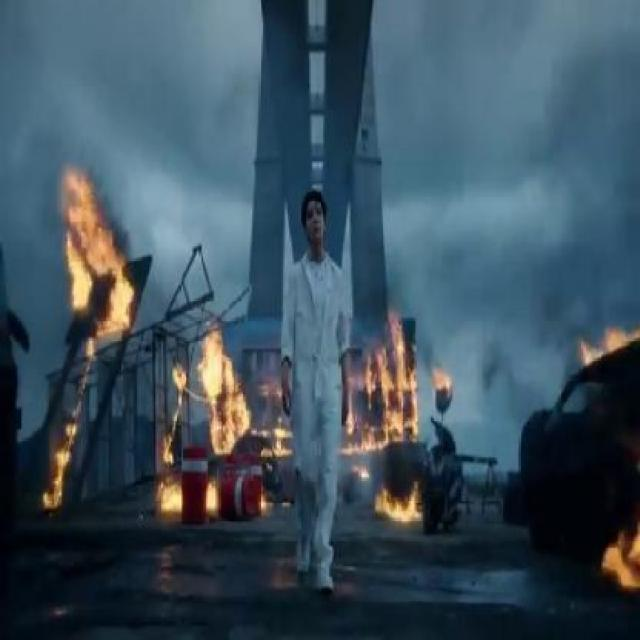smoke: (531, 51, 640, 324), (0, 16, 58, 252), (350, 213, 392, 352), (255, 362, 294, 510), (472, 341, 537, 424), (338, 418, 377, 518), (91, 176, 140, 252), (402, 288, 444, 368)
